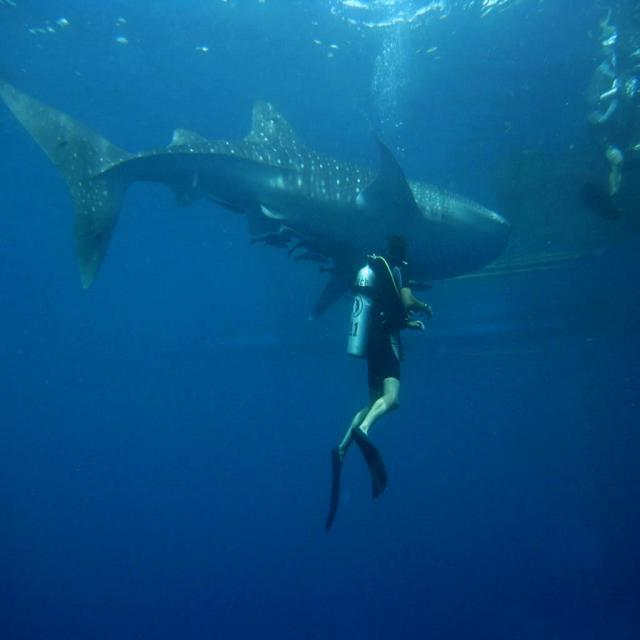Shark: (0, 76, 516, 290)
